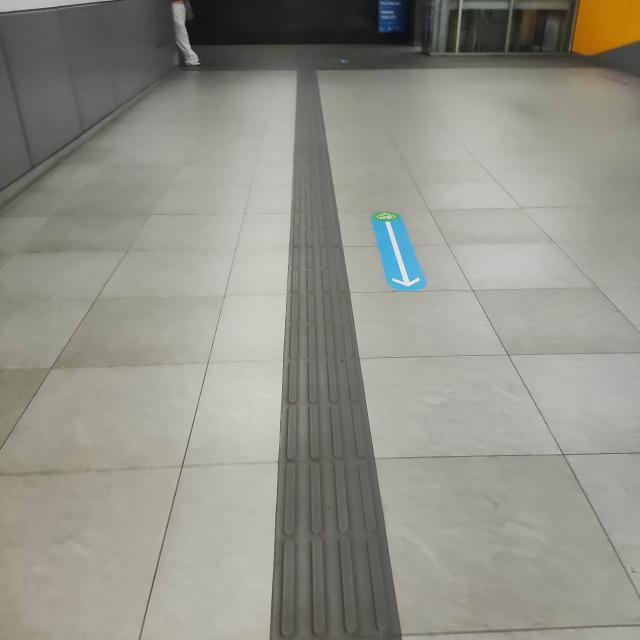lurus: (268, 87, 386, 639)
